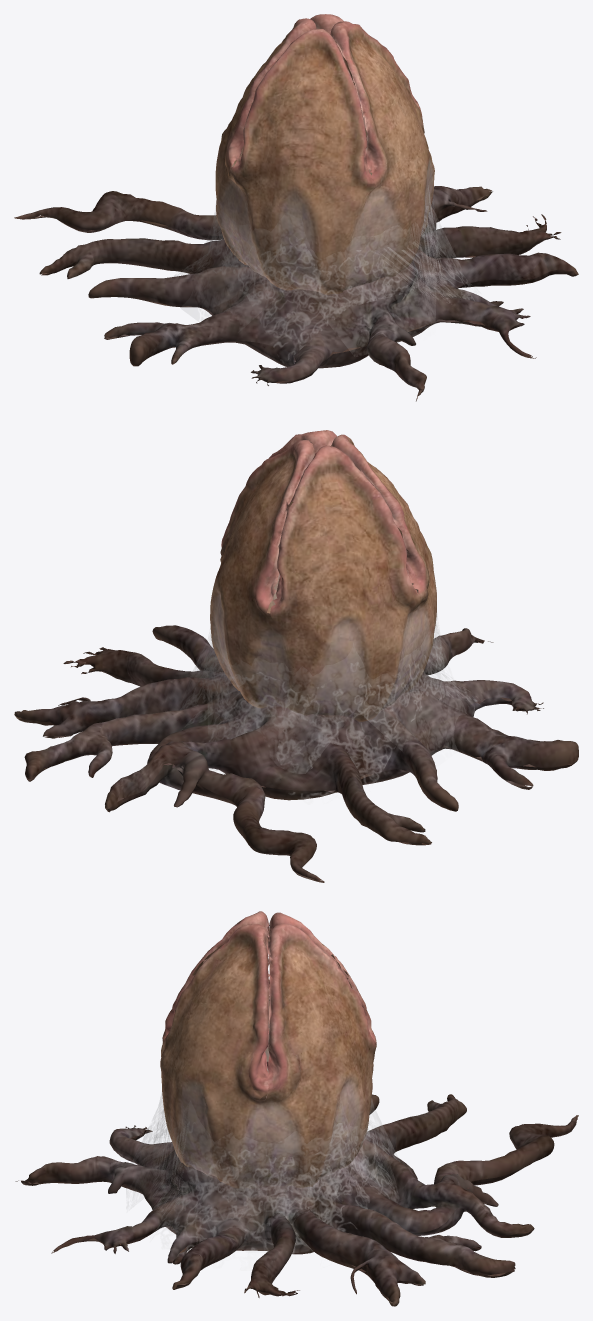
The model's file is oeuf-extraterrestre.glb.
3 views of the same model, one above another, from view 1: azimuth 30°, elevation 25°; view 2: azimuth 150°, elevation 25°; view 3: azimuth 270°, elevation 25° (orthographic). The views are drawn at different scales.
Parts seen in each view (by area): view 1: Group35463, Group64277, Group13752, Group44234, Group44292, Group57259, Group59158; view 2: Group35463, Group44234, Group12847, Group64277, Group57259, Group44292, Group13752, Group59158; view 3: Group35463, Group12847, Group13752, Group57259, Group44292, Group64277, Group44234, Group59158.
Boxes of the visible parts, left/top/right/bottom form: Group35463: left=15, top=186, right=578, bottom=389; Group64277: left=229, top=29, right=375, bottom=294; Group13752: left=330, top=21, right=434, bottom=283; Group44234: left=215, top=18, right=316, bottom=266; Group44292: left=14, top=191, right=578, bottom=401; Group57259: left=174, top=206, right=478, bottom=359; Group59158: left=213, top=151, right=460, bottom=266; Group35463: left=15, top=625, right=578, bottom=881; Group44234: left=268, top=445, right=419, bottom=721; Group12847: left=210, top=440, right=315, bottom=708; Group64277: left=332, top=434, right=436, bottom=699; Group57259: left=180, top=575, right=476, bottom=803; Group44292: left=14, top=633, right=578, bottom=882; Group13752: left=262, top=430, right=336, bottom=613; Group59158: left=192, top=614, right=441, bottom=679; Group35463: left=24, top=1094, right=577, bottom=1303; Group12847: left=261, top=923, right=376, bottom=1187; Group13752: left=160, top=924, right=269, bottom=1188; Group57259: left=153, top=1054, right=415, bottom=1270; Group44292: left=15, top=1115, right=578, bottom=1306; Group64277: left=161, top=911, right=270, bottom=1097; Group44234: left=268, top=912, right=376, bottom=1044; Group59158: left=132, top=1094, right=399, bottom=1163.
Size of the model in its own units: 1.13 by 0.71 by 1.23.
Materials: 4 (4 with a texture image).
